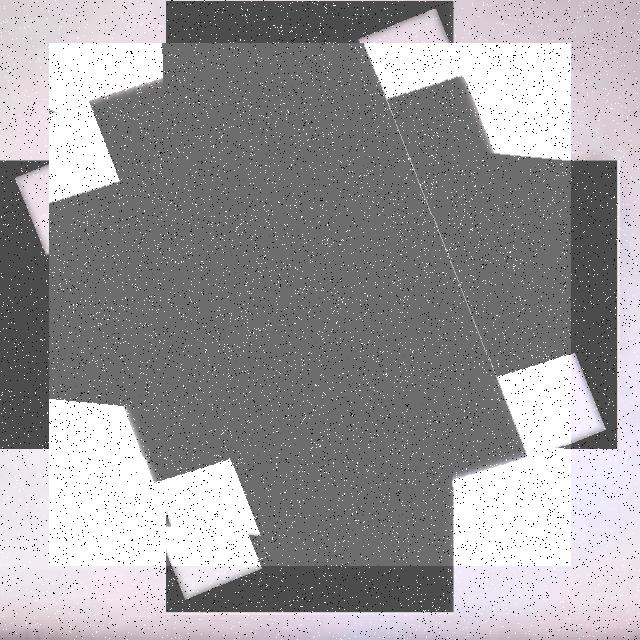lima puluh ribu rupiah: (49, 43, 571, 566)
